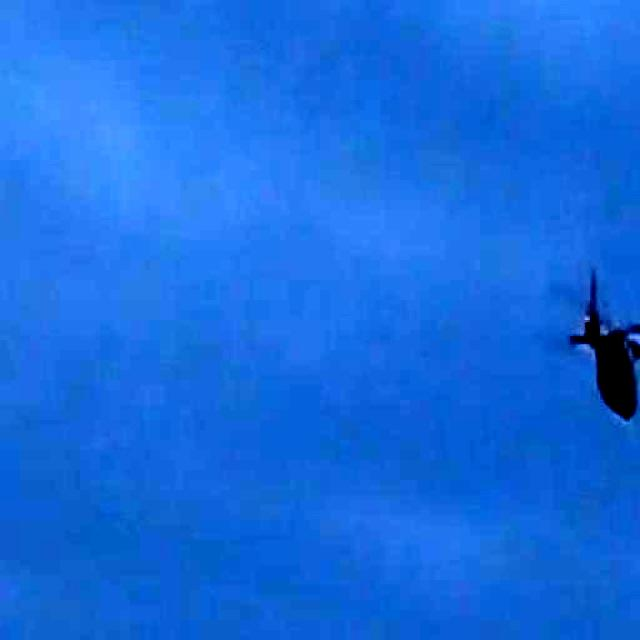drone: (548, 268, 640, 438)
